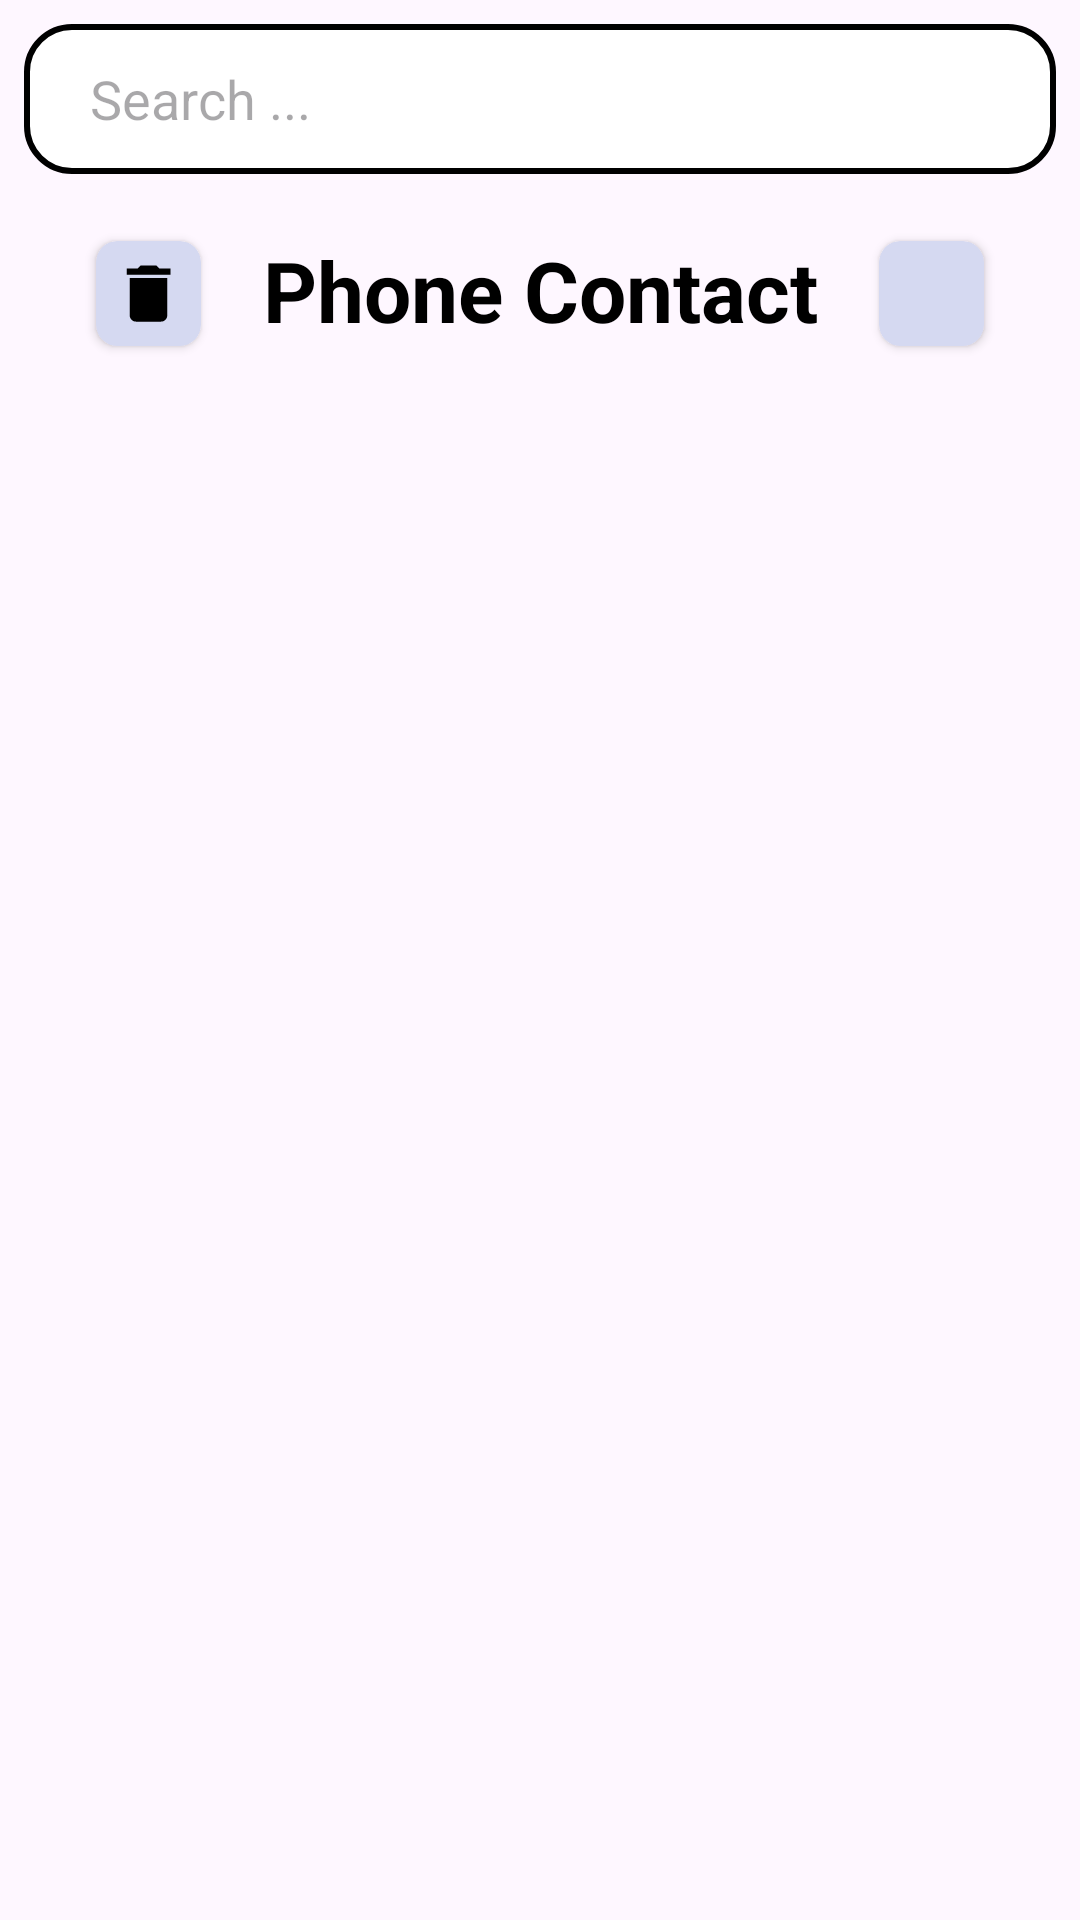

Screen size 1080 × 1920. Icon name, then its box in pixels as rect(x1, y1, x2, y2):
delete: rect(96, 241, 201, 346)
